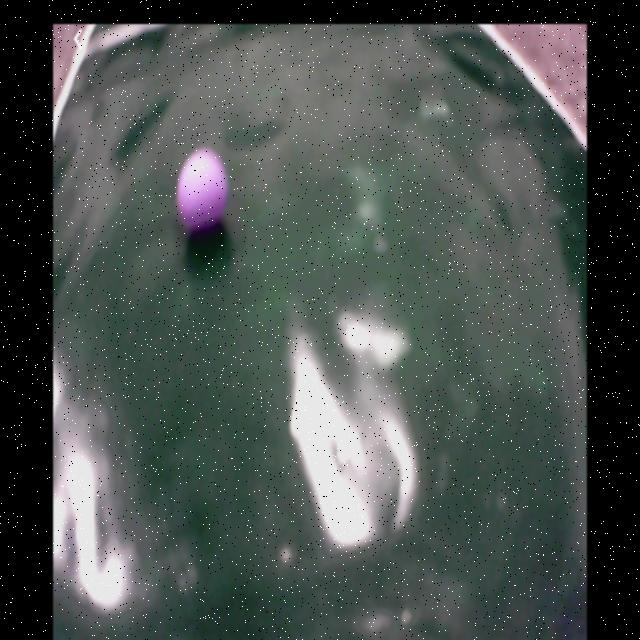ball: (176, 146, 228, 239)
